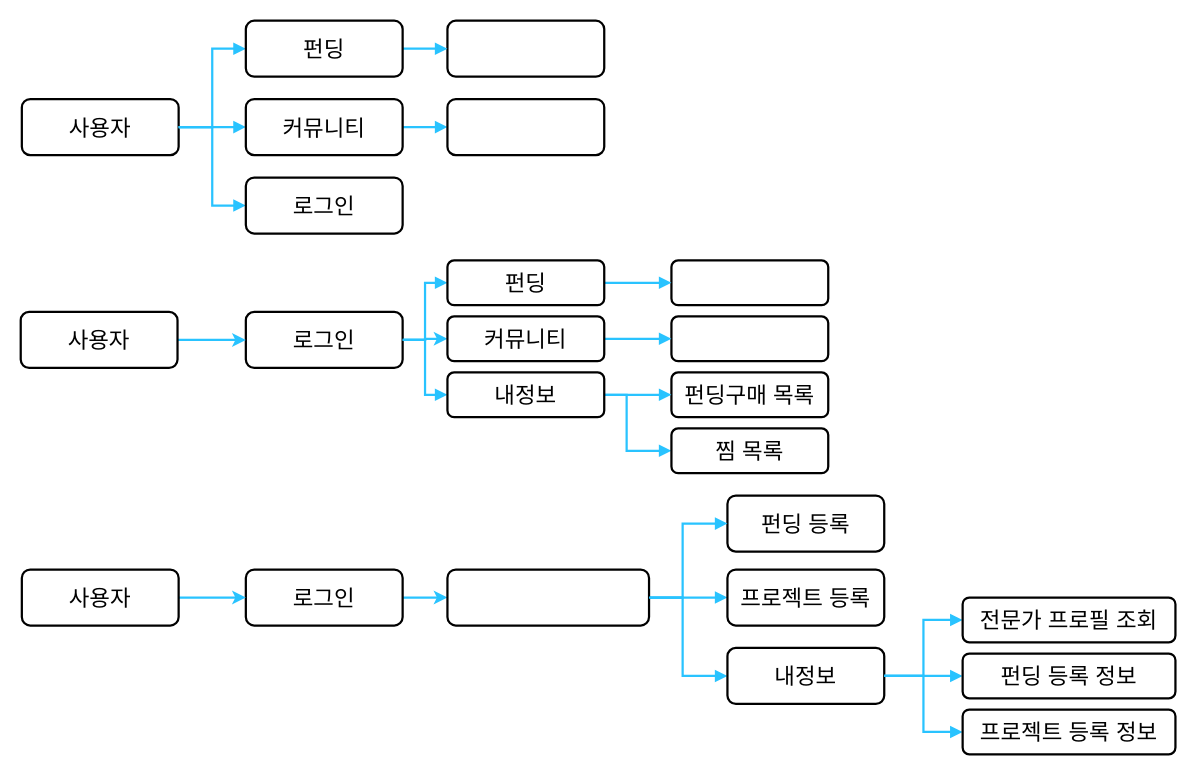
This 1195x774 diagram has some shape labels left out. The centre of each missing label's shape, as x and y in pixels:
글 작성: [749,338]
장르별 조회: [525,48]
전문가 계정 전환: [548,597]
커뮤니티 조회: [525,126]
펀딩 구매: [749,282]
